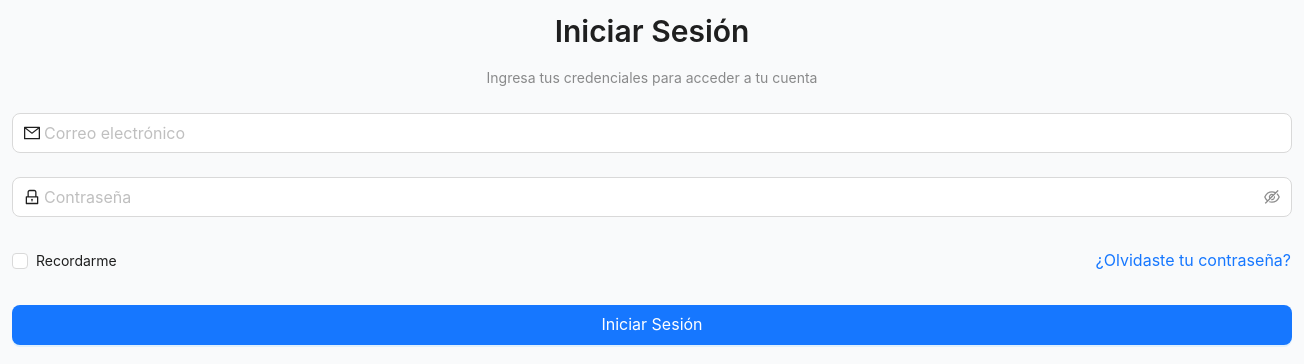
LoginForm › validates password length
Type "123" into the password field with placeholder "Contraseña" at [652, 197], box [44, 185, 1260, 209]
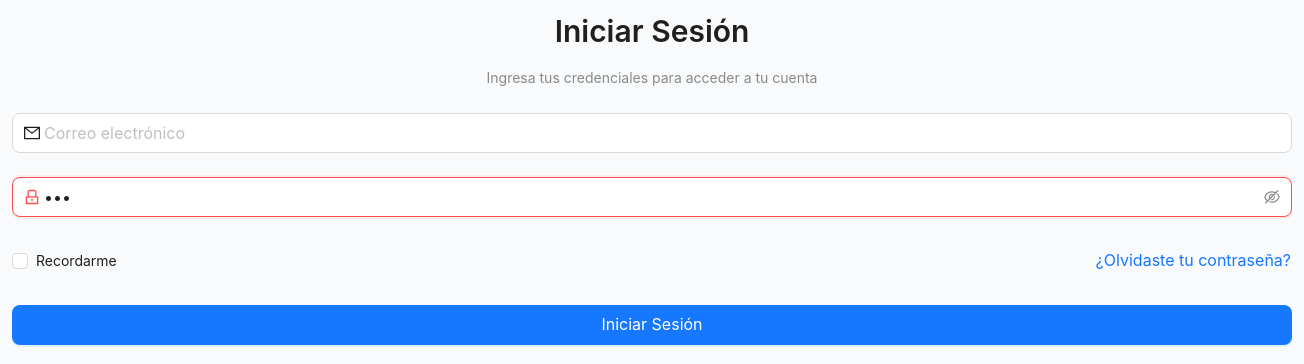
Press Tab
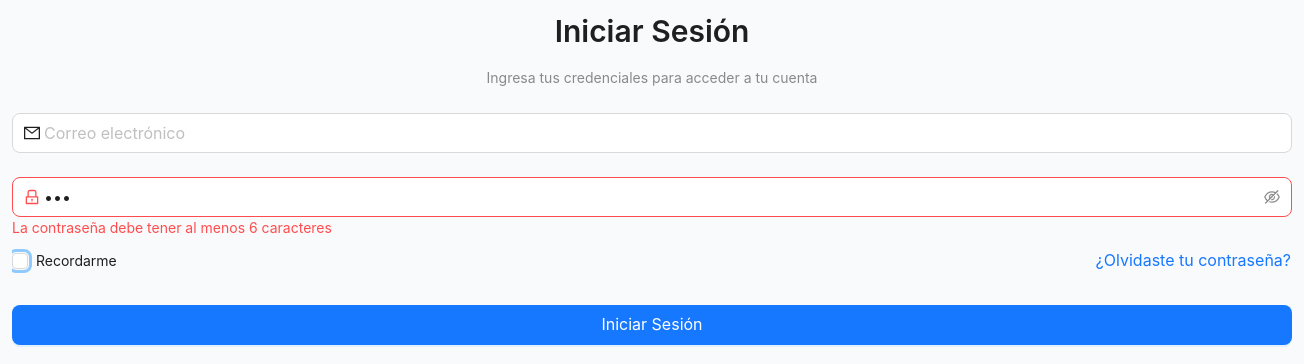
Expected: the text "La contraseña debe tener al menos 6 caracteres" is shown, [12, 219, 332, 236]
